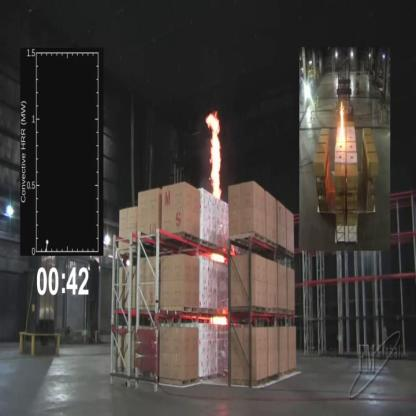fire: (203, 110, 226, 206)
